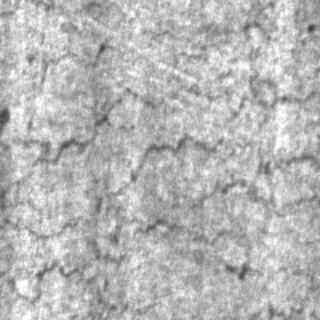crazing: (33, 133, 314, 261), (93, 0, 313, 148), (0, 196, 124, 304)
